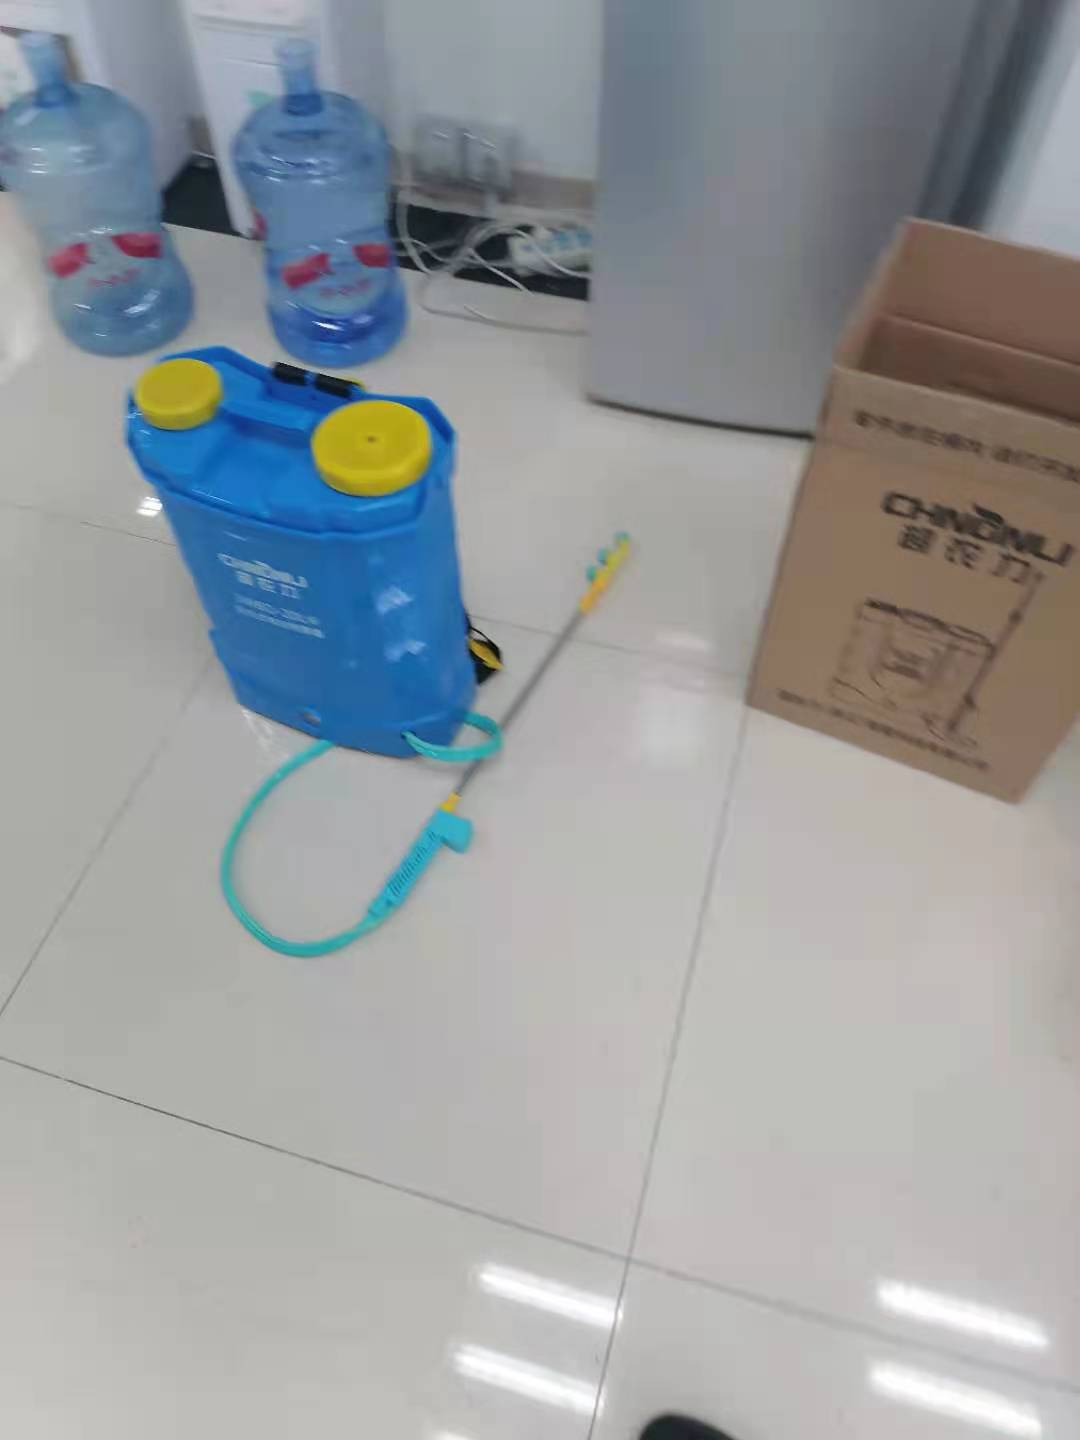berrl: (119, 339, 503, 768)
